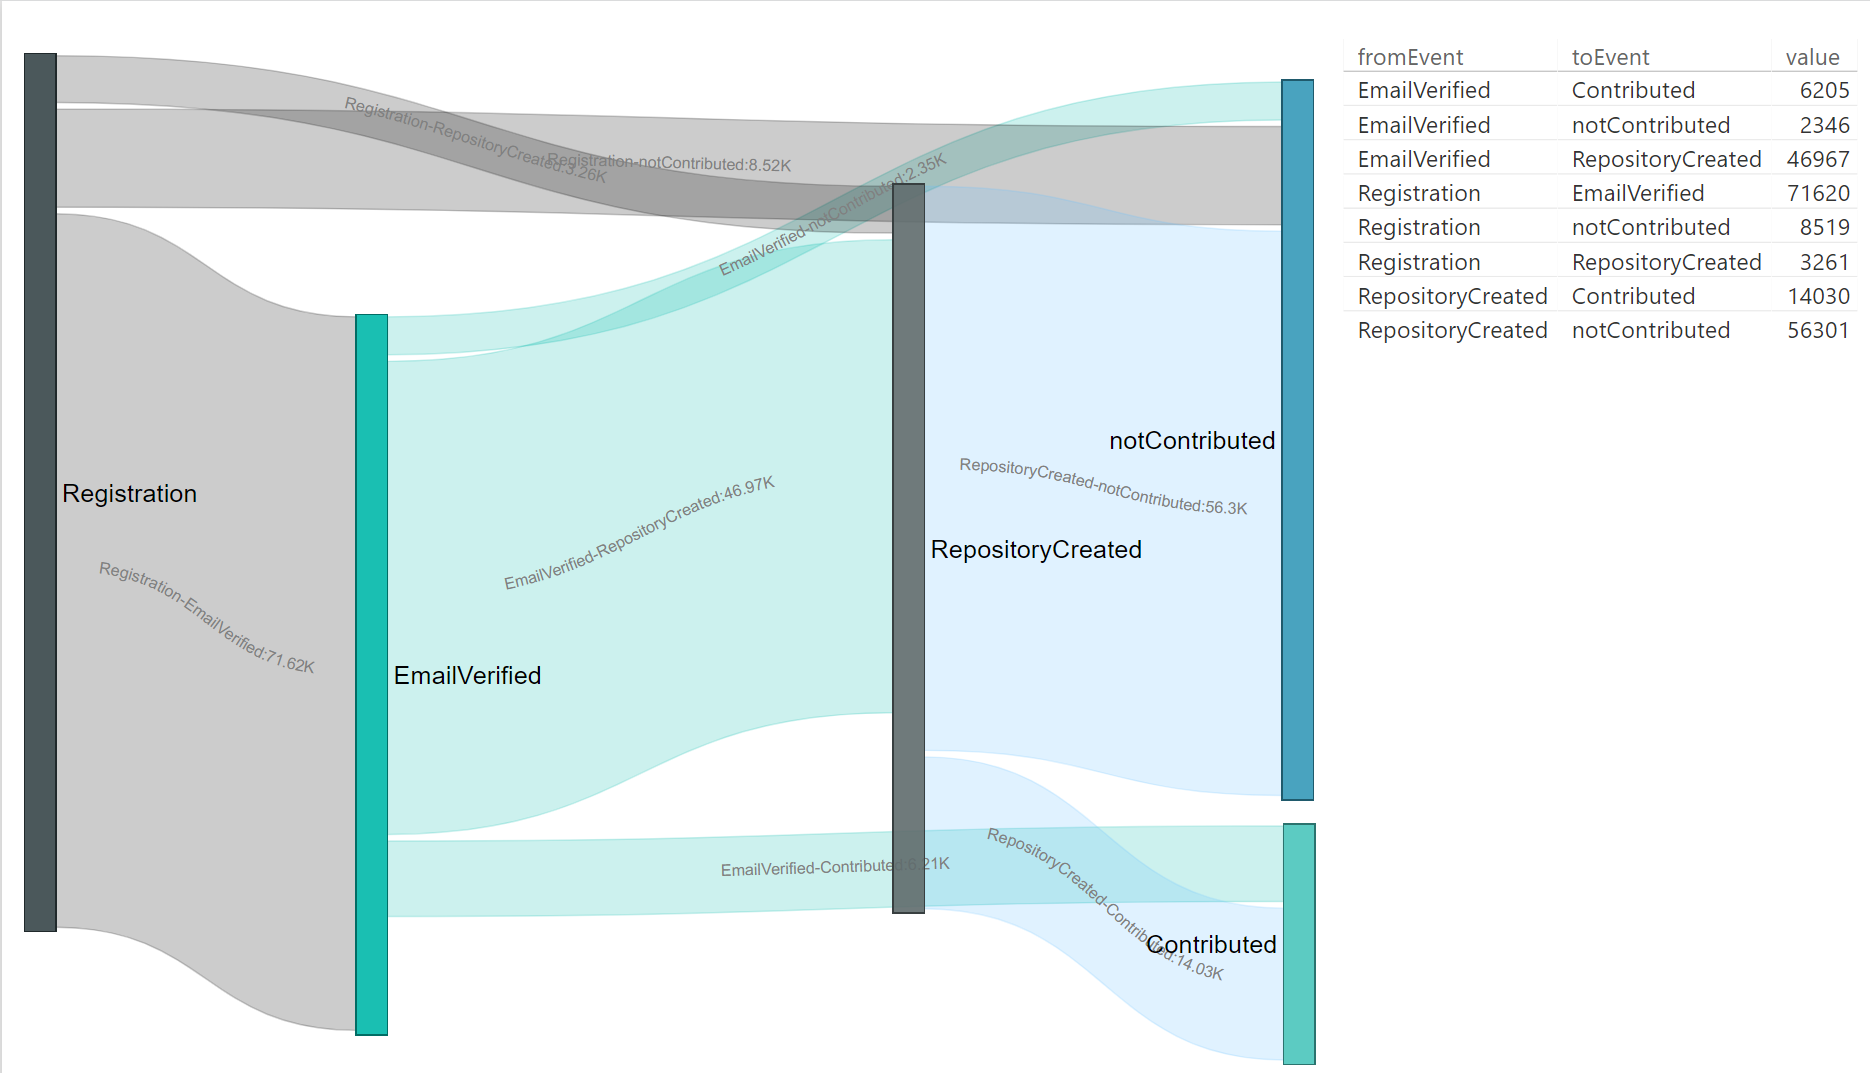

Layout of this report page (visuals, bound fields, positions):
{"tool":"powerbi","page":{"name":"GitCustomerFlow","canvas":[1280,720],"ordinal":0},"visuals":[{"type":"SankeyDiagram1446463184954","fields":{"Source":["Simple.fromEvent"],"Destination":["Simple.toEvent"],"Weight":["Sum(Simple.value)"]},"box":[0,0,909,719],"z":3},{"type":"table","fields":{"Values":["Simple.fromEvent","Simple.toEvent","Sum(Simple.value)"]},"box":[909,0,368.4,327.6],"z":1000}]}

Visuals, with their boxes in screenshot pixels (x1, y1, x2, y2), scaled from the page's 1280x720 canvas onto the 1870x1073 screenshot:
SankeyDiagram1446463184954 - Simple.fromEvent x Simple.toEvent: l=0, t=0, r=1328, b=1072
table - Simple.fromEvent x Simple.toEvent: l=1328, t=0, r=1866, b=488
